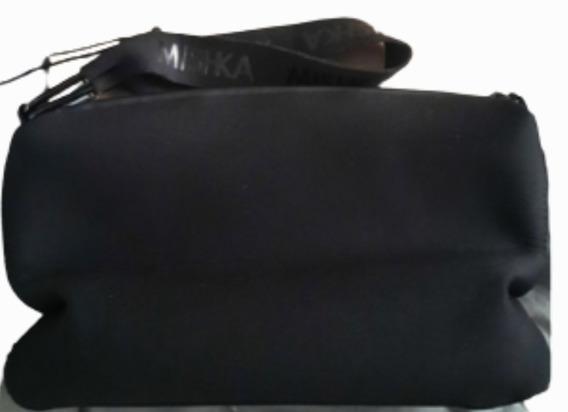cartera: (1, 17, 553, 411)
